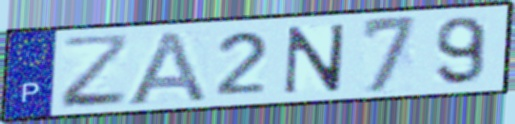2: (213, 30, 271, 98)
7: (359, 12, 420, 96)
9: (433, 15, 489, 86)
A: (122, 28, 211, 108)
N: (279, 22, 349, 97)
Z: (59, 31, 132, 111)
